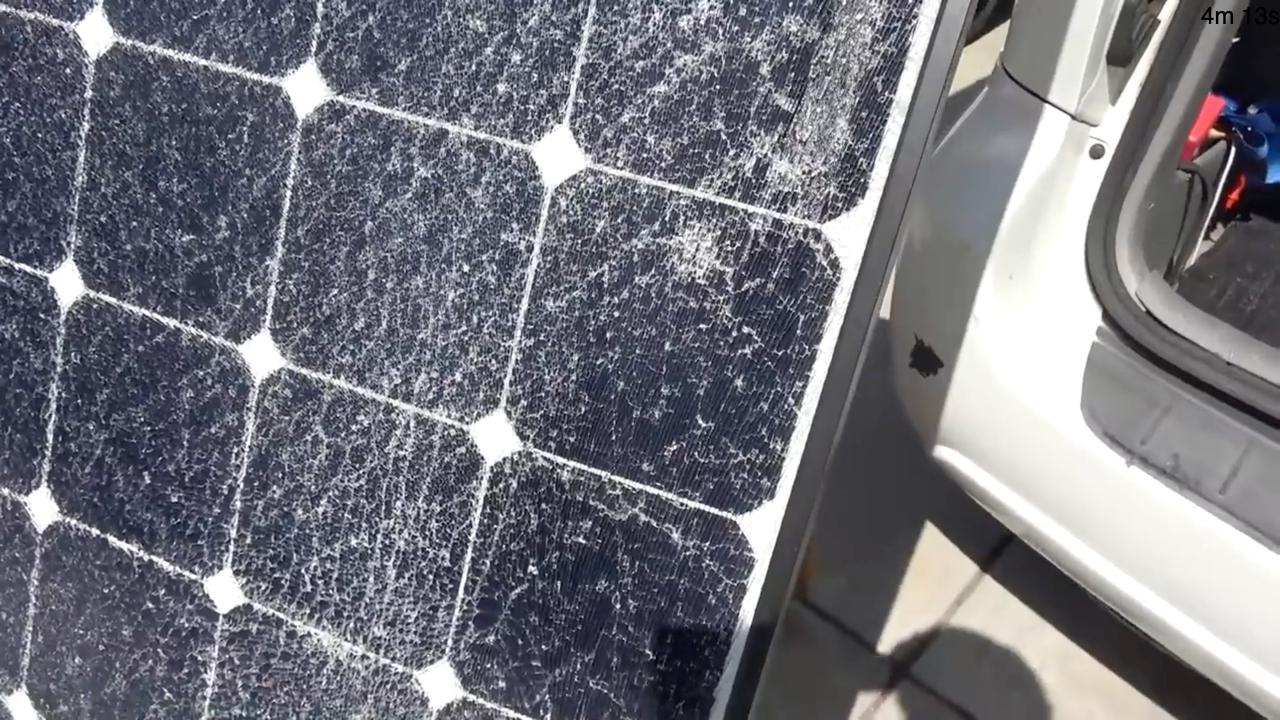Crack: (340, 10, 851, 292), (529, 301, 831, 717), (222, 306, 515, 719), (0, 292, 219, 703), (25, 35, 274, 276)
